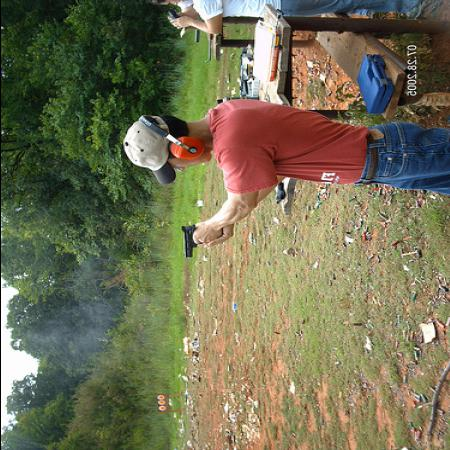Pistol: (178, 224, 220, 258)
